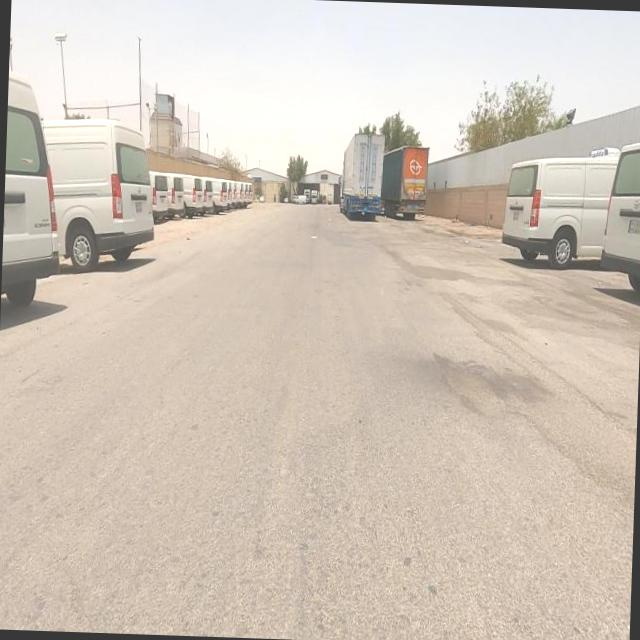debris: (436, 211, 494, 281), (290, 211, 342, 269)
